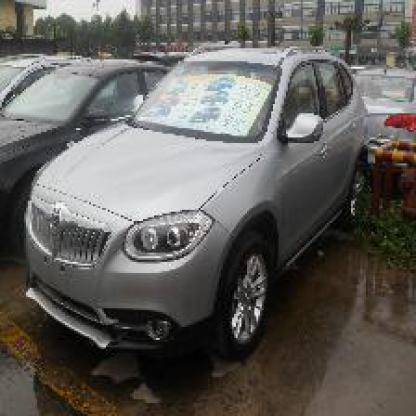not_emergency: (17, 34, 379, 362)
